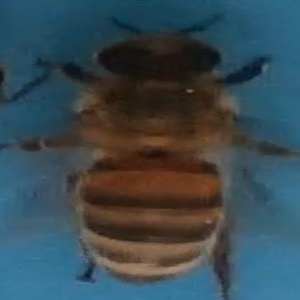bee: (35, 18, 287, 296)
